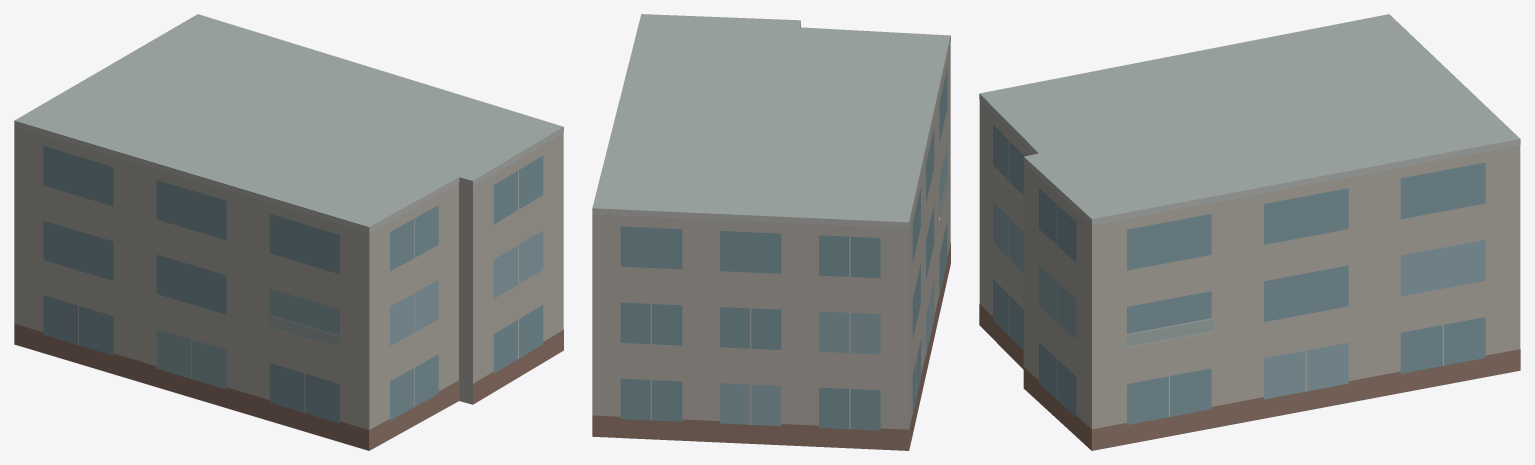
File: survey-upis-33027555.glb
The picture shows the model from 3 angles, left to right: view 1: azimuth 30°, elevation 25°; view 2: azimuth 150°, elevation 25°; view 3: azimuth 270°, elevation 25°; orthographic projection. The views are drawn at different scales.
Parts seen in each view (by area): view 1: survey-upis-33027555.tmp; view 2: survey-upis-33027555.tmp; view 3: survey-upis-33027555.tmp.
Boxes of the visible parts, x1,y1,x2,y2 form: survey-upis-33027555.tmp: (14,14,563,450); survey-upis-33027555.tmp: (592,14,950,450); survey-upis-33027555.tmp: (979,14,1520,450).
Bounding box in the file's own units: 17.38 × 9.15 × 19.37.
